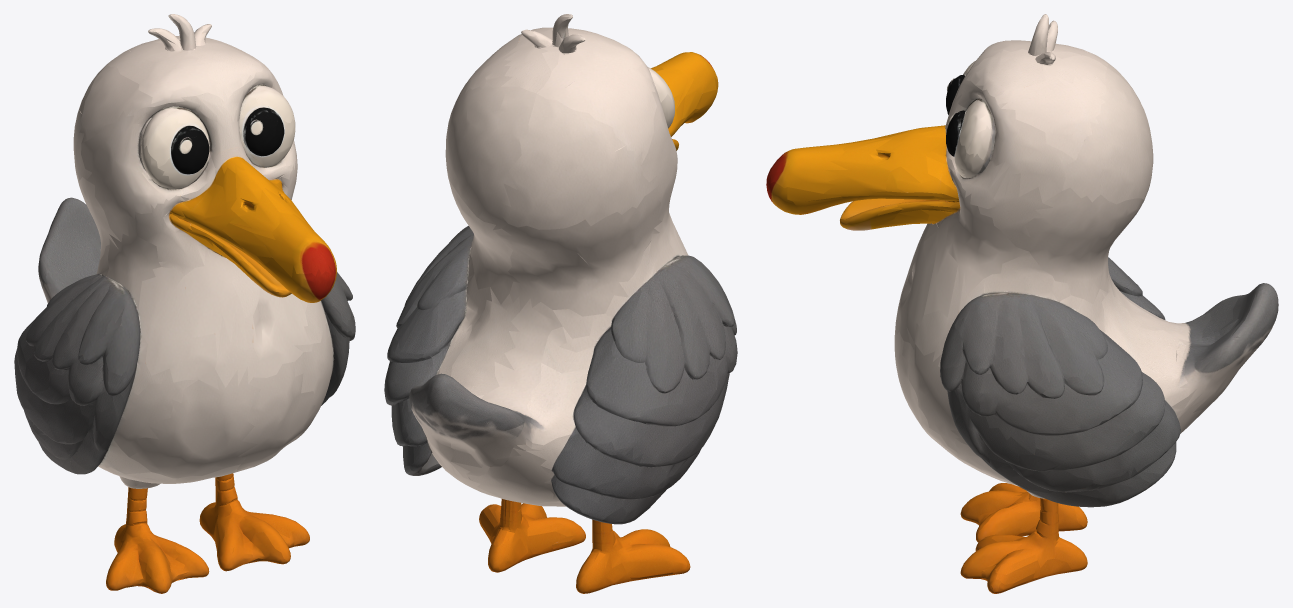
Rendered from gull_src.glb.
3 views of the same model, side by side, from view 1: azimuth 30°, elevation 25°; view 2: azimuth 150°, elevation 25°; view 3: azimuth 270°, elevation 25° (orthographic). The views are drawn at different scales.
Visible parts, largest first — view 1: Mesh_0; view 2: Mesh_0; view 3: Mesh_0.
Boxes of the visible parts, x1,y1,x2,y2 form: Mesh_0: (14,14,355,593); Mesh_0: (384,14,737,593); Mesh_0: (766,14,1278,593).
Size of the model in its own units: 1.06 by 1.9 by 1.66.
1 material, 1 textured.
